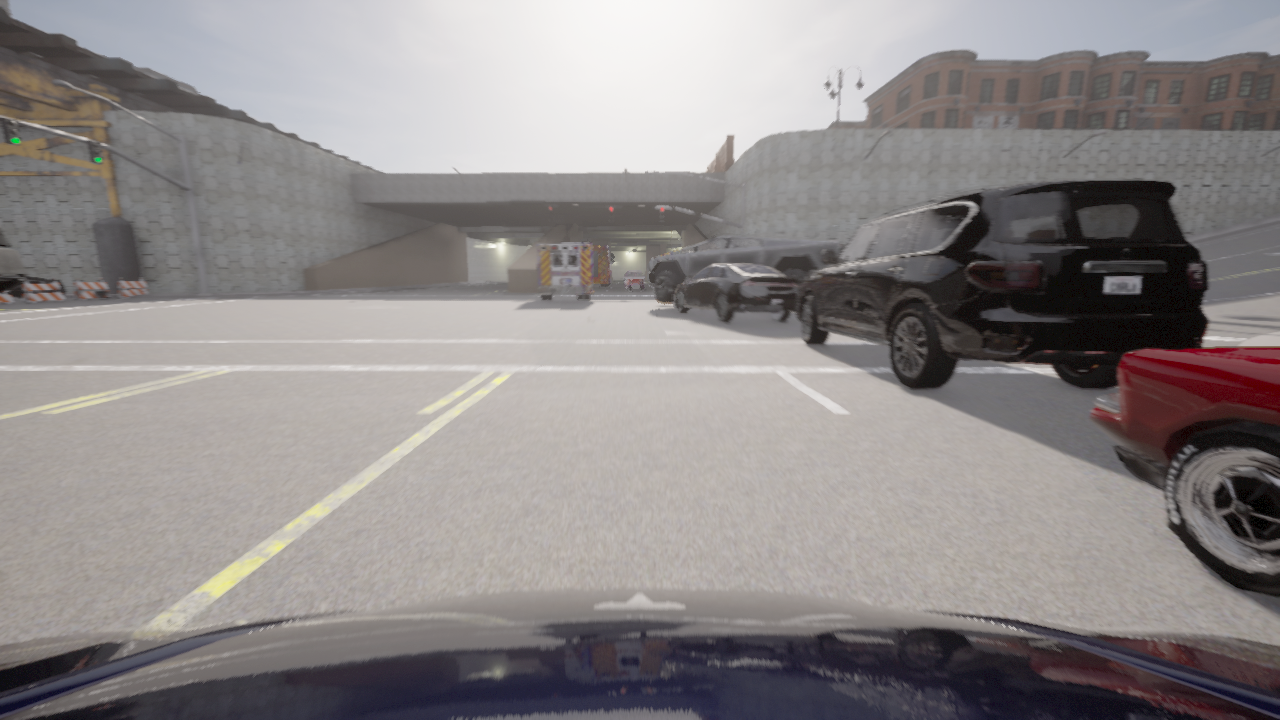cyclist: (0, 588, 1279, 719), (797, 180, 1209, 388), (1089, 347, 1279, 597), (648, 235, 843, 303), (674, 263, 799, 322), (537, 243, 593, 300), (581, 240, 613, 287), (7, 277, 65, 298), (624, 271, 645, 291), (623, 272, 628, 282)
